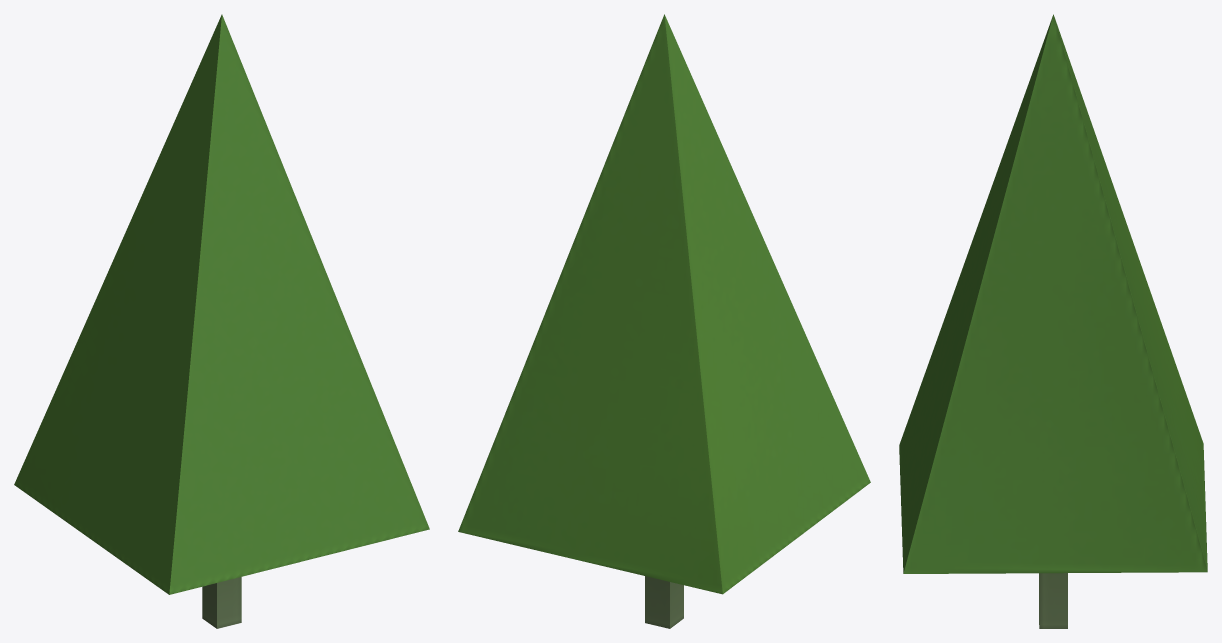
The model's file is world1_tree02_fbx.fbx.
3 views of the same model, side by side, from view 1: azimuth 30°, elevation 25°; view 2: azimuth 150°, elevation 25°; view 3: azimuth 270°, elevation 25° (orthographic).
Parts seen in each view (by area): view 1: world1_tree02; view 2: world1_tree02; view 3: world1_tree02.
Boxes of the visible parts, x1,y1,x2,y2 form: world1_tree02: (14, 14, 429, 628); world1_tree02: (458, 14, 870, 628); world1_tree02: (899, 14, 1207, 628).
Size of the model in its own units: 42.48 by 92.48 by 42.48.
